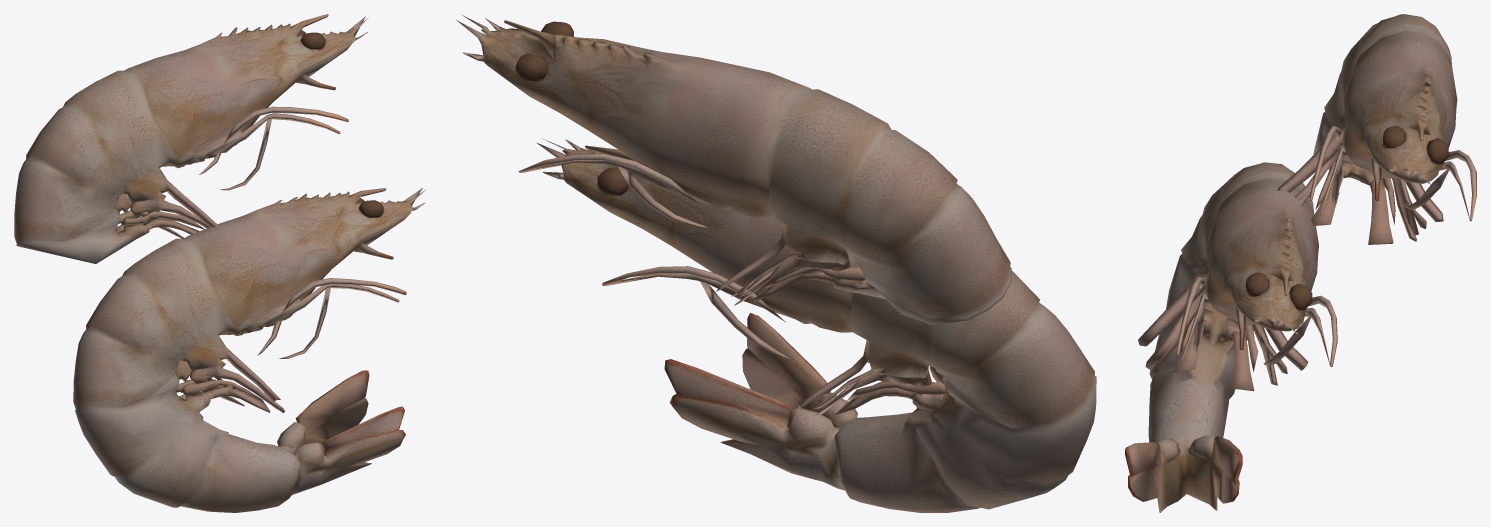
Rendered from optimized_glb.glb.
The picture shows the model from 3 angles, left to right: view 1: azimuth 30°, elevation 25°; view 2: azimuth 150°, elevation 25°; view 3: azimuth 270°, elevation 25°; orthographic projection. The views are drawn at different scales.
Visible parts, largest first — view 1: Shrimp; view 2: Shrimp; view 3: Shrimp.
Boxes of the visible parts, bbox=[...] form: Shrimp: bbox=[14, 14, 425, 512]; Shrimp: bbox=[456, 15, 1096, 512]; Shrimp: bbox=[1125, 14, 1476, 512].
Size of the model in its own units: 0.998 by 0.9941 by 0.7012.
1 material, 1 textured.
